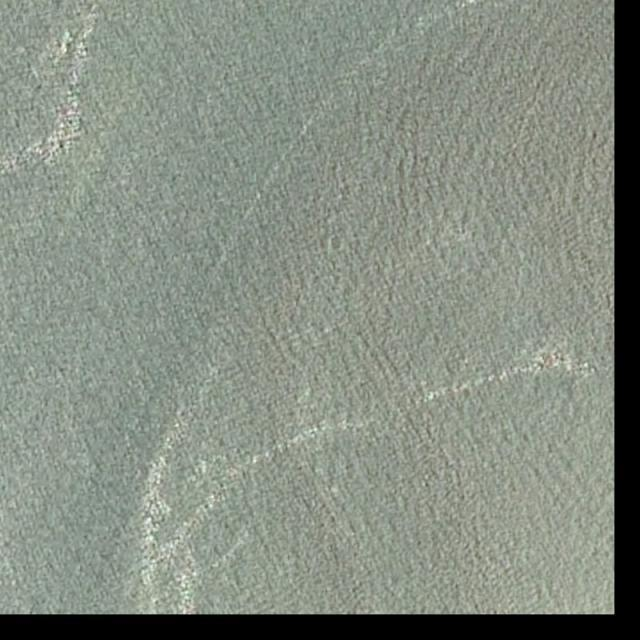ship: (585, 361, 596, 369)
